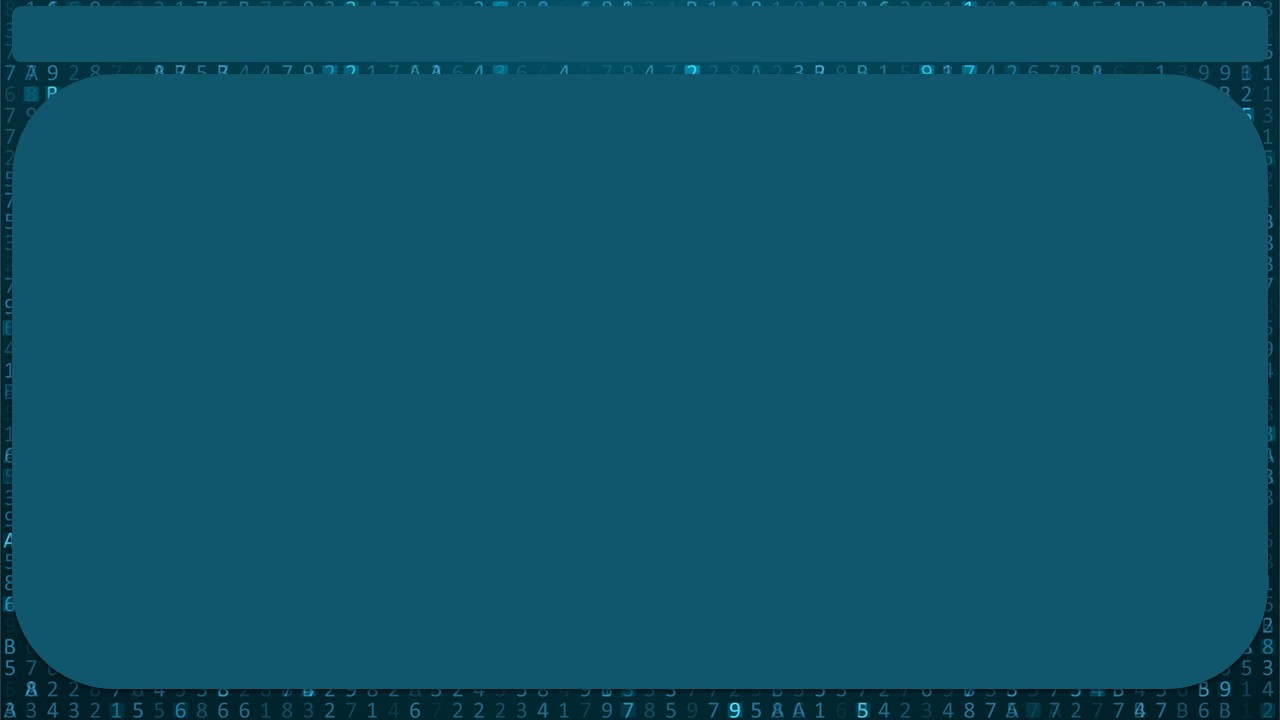

Layout of this report page (visuals, bound fields, positions):
{"tool":"powerbi","page":{"name":"Page 1","canvas":[1280,720],"ordinal":0},"visuals":[{"type":"tableEx","fields":{"Values":["Groups.Group Name","Sum(Group Fact.Total)"]},"box":[10.1,0,1269.5,708],"z":0}]}

Visuals, with their boxes in screenshot pixels (x1, y1, x2, y2), scaled from the page's 1280x720 canvas onto the 1280x720 screenshot:
tableEx - Groups.Group Name x Sum(Group Fact.Total): 10, 0, 1279, 708
